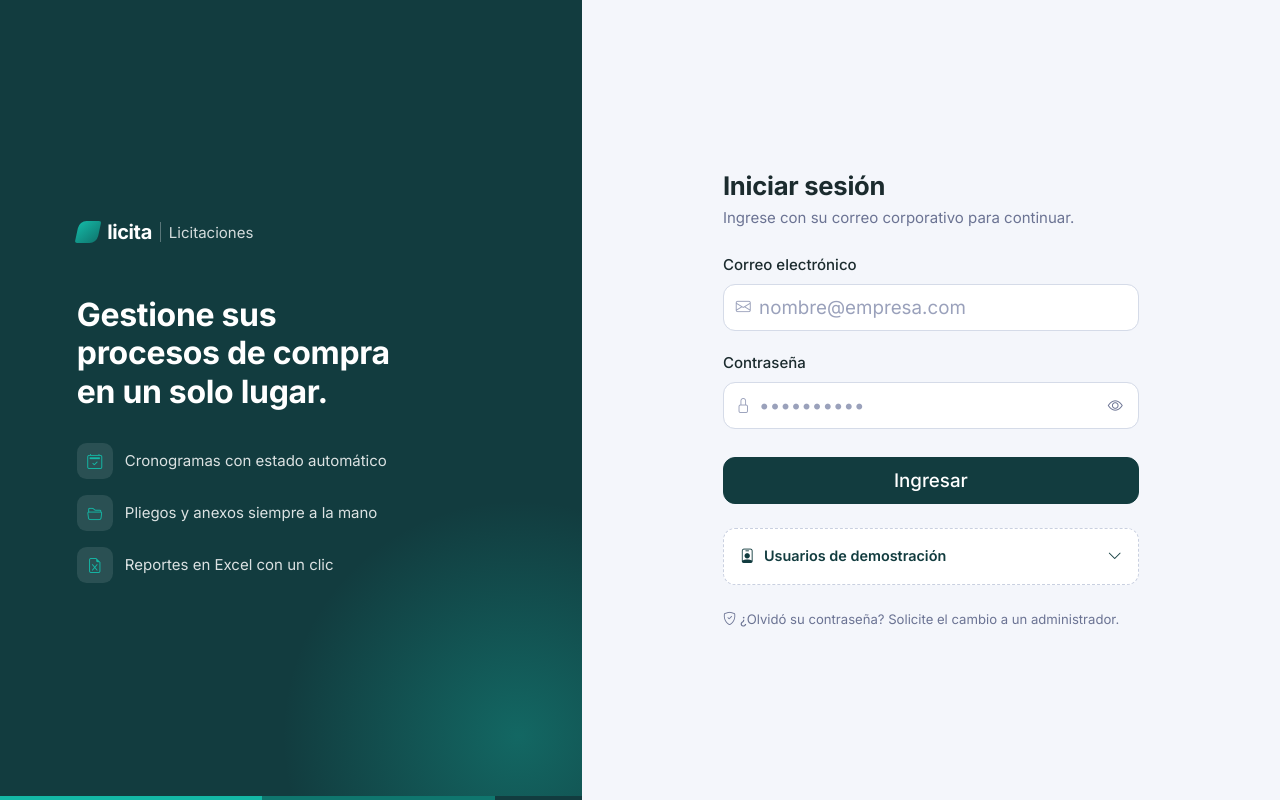
Scenario: LoginView › lists the demo users when enabled and fills the form with one
Click the button with class "demo-users-toggle" at (931, 557), box [736,542,1126,572]
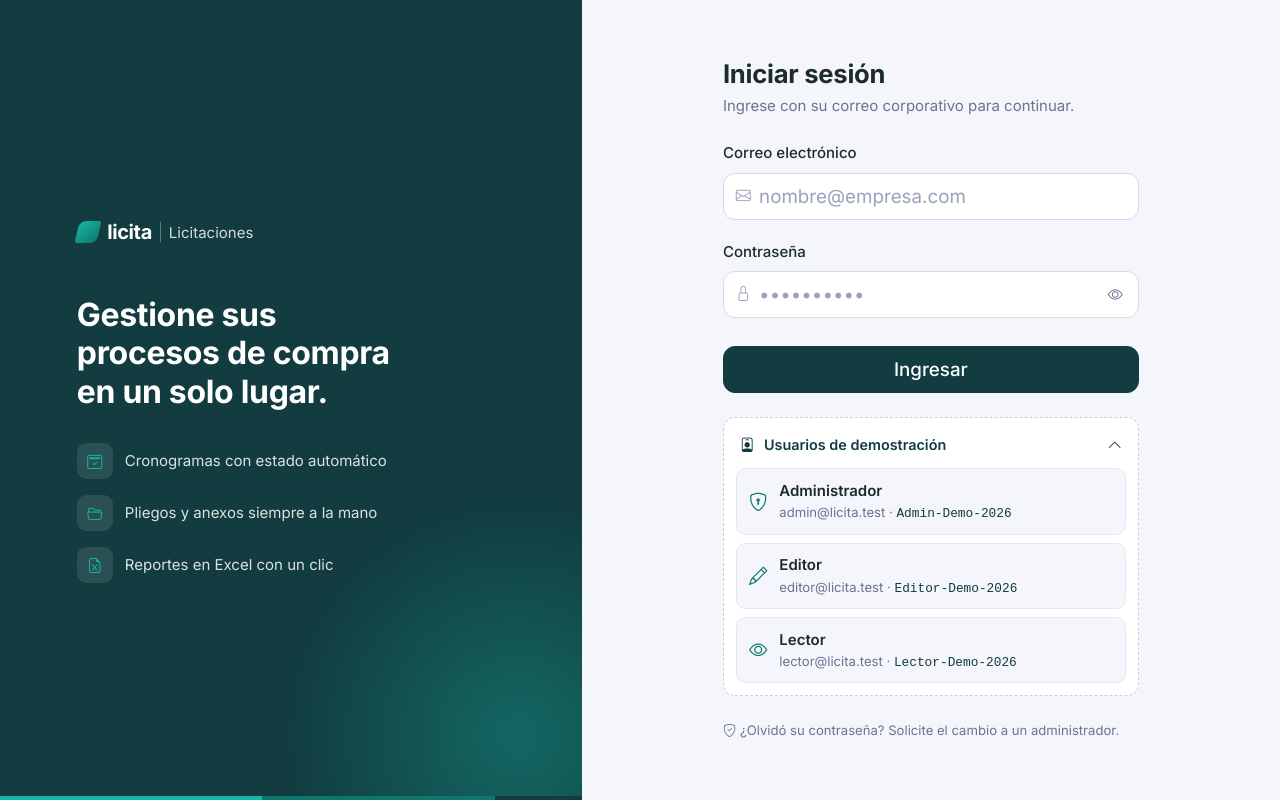
Click the button with aria-label "Usar cuenta Lector" at (802, 639), box [736,617,1126,683]
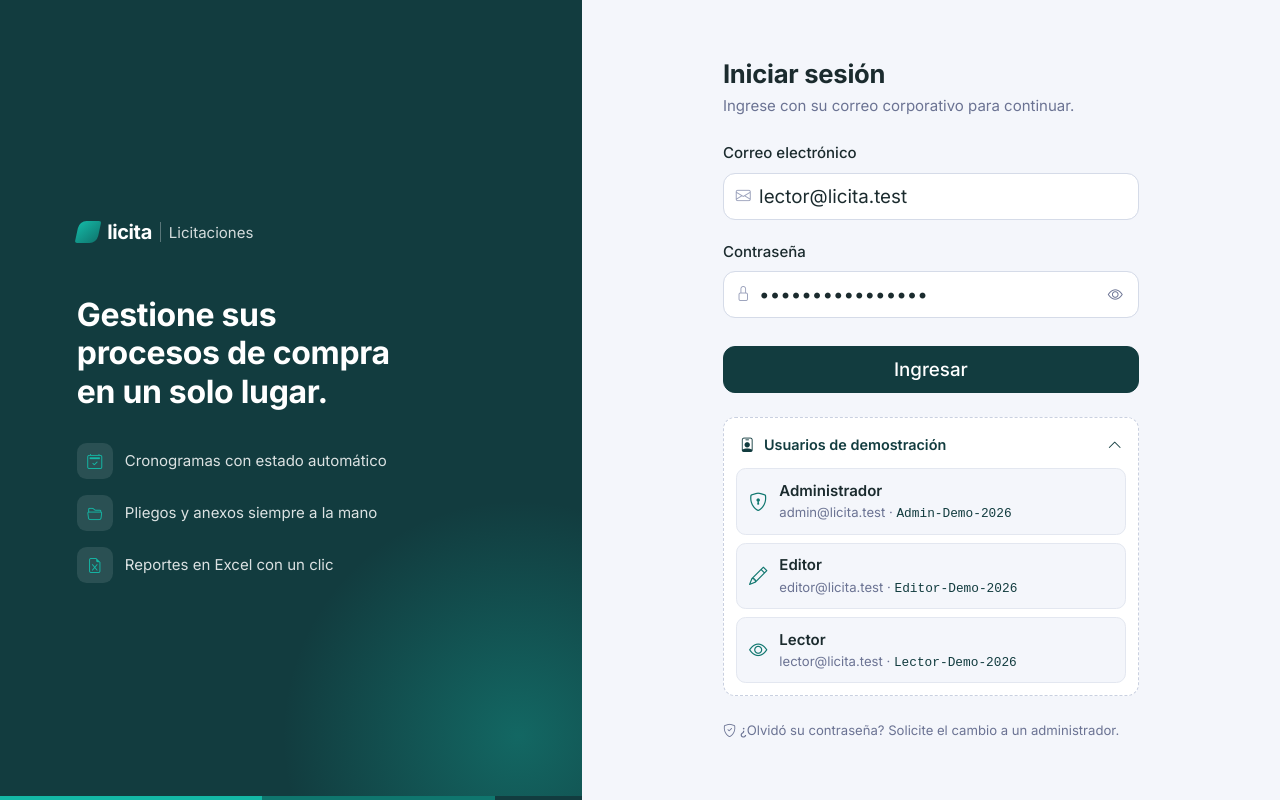
Result: the field with id "login-email" holds "lector@licita.test" at [723,173,1139,220]
Result: the password field with id "login-password" holds "Lector-Demo-2026" at [723,271,1139,318]
